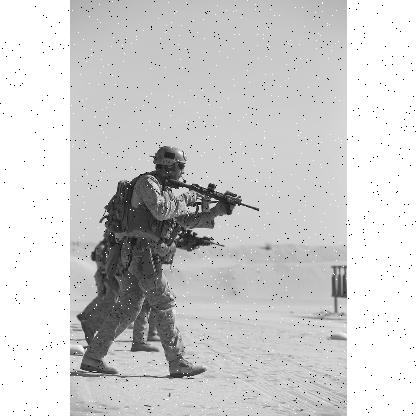gun: (157, 176, 259, 232)
